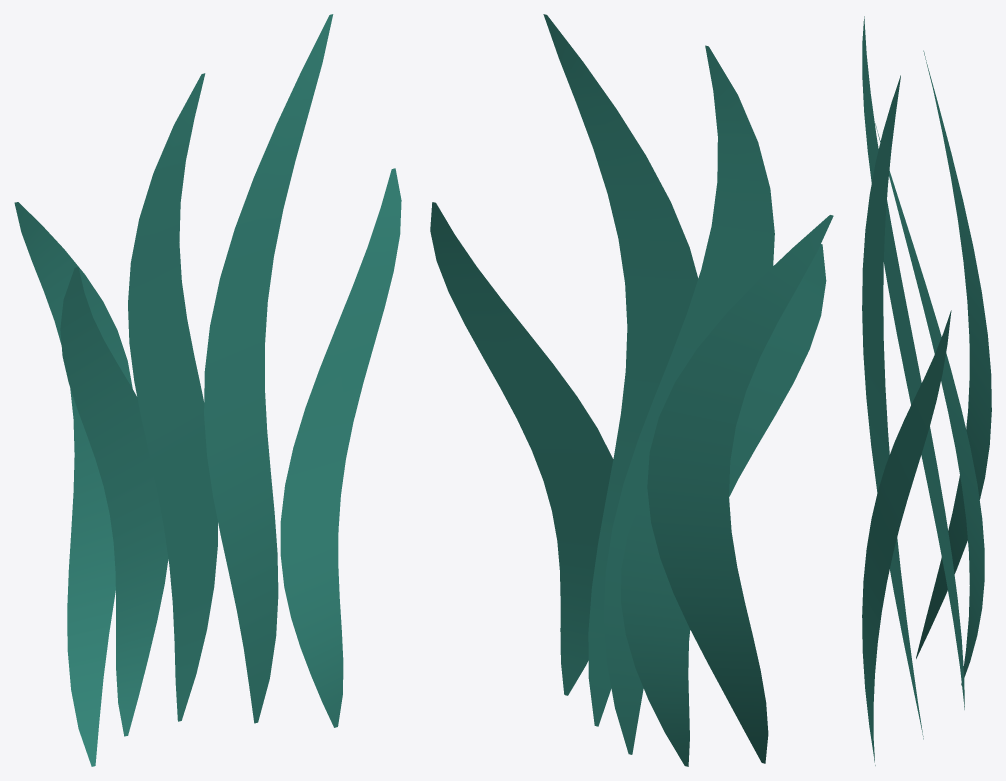
Rendered from kelp.glb.
The picture shows the model from 3 angles, left to right: view 1: azimuth 30°, elevation 25°; view 2: azimuth 150°, elevation 25°; view 3: azimuth 270°, elevation 25°; orthographic projection.
Visible parts, largest first — view 1: Reef_KelpBlade.003, Reef_KelpBlade.002, Reef_KelpBlade.004, Reef_KelpBlade.001, Reef_KelpBlade; view 2: Reef_KelpBlade, Reef_KelpBlade.003, Reef_KelpBlade.004, Reef_KelpBlade.002, Reef_KelpBlade.001; view 3: Reef_KelpBlade.004, Reef_KelpBlade.003, Reef_KelpBlade, Reef_KelpBlade.002, Reef_KelpBlade.001.
Boxes of the visible parts, <box> form: Reef_KelpBlade.003: <box>204,14,333,723</box>; Reef_KelpBlade.002: <box>128,73,217,721</box>; Reef_KelpBlade.004: <box>280,168,401,727</box>; Reef_KelpBlade.001: <box>60,267,168,736</box>; Reef_KelpBlade: <box>14,202,132,766</box>; Reef_KelpBlade: <box>647,215,833,763</box>; Reef_KelpBlade.003: <box>543,14,698,726</box>; Reef_KelpBlade.004: <box>430,202,613,695</box>; Reef_KelpBlade.002: <box>603,45,774,754</box>; Reef_KelpBlade.001: <box>621,244,826,766</box>; Reef_KelpBlade.004: <box>862,310,951,765</box>; Reef_KelpBlade.003: <box>862,75,923,739</box>; Reef_KelpBlade: <box>916,50,991,658</box>; Reef_KelpBlade.002: <box>862,16,964,709</box>; Reef_KelpBlade.001: <box>875,123,984,685</box>.
Bounding box in the file's own units: 1.44 × 2.42 × 0.4095.
